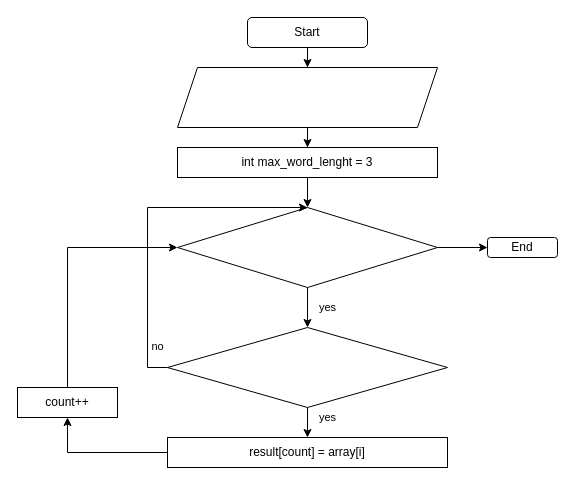
The diagram is 575 pixels wide and 485 high, and some of its shapes have lost their labels. The shapes that lost their labels are listed below. From the top down, each one's centre as x and y in pixels, then its label:
[307,97]: int lenght = array.Lenght string[] result = new string[lenght] int count = 0
[307,247]: for int i = 0; i<lenght; i++
[307,367]: if (array[i].Lenght <= max_word_lenght)
